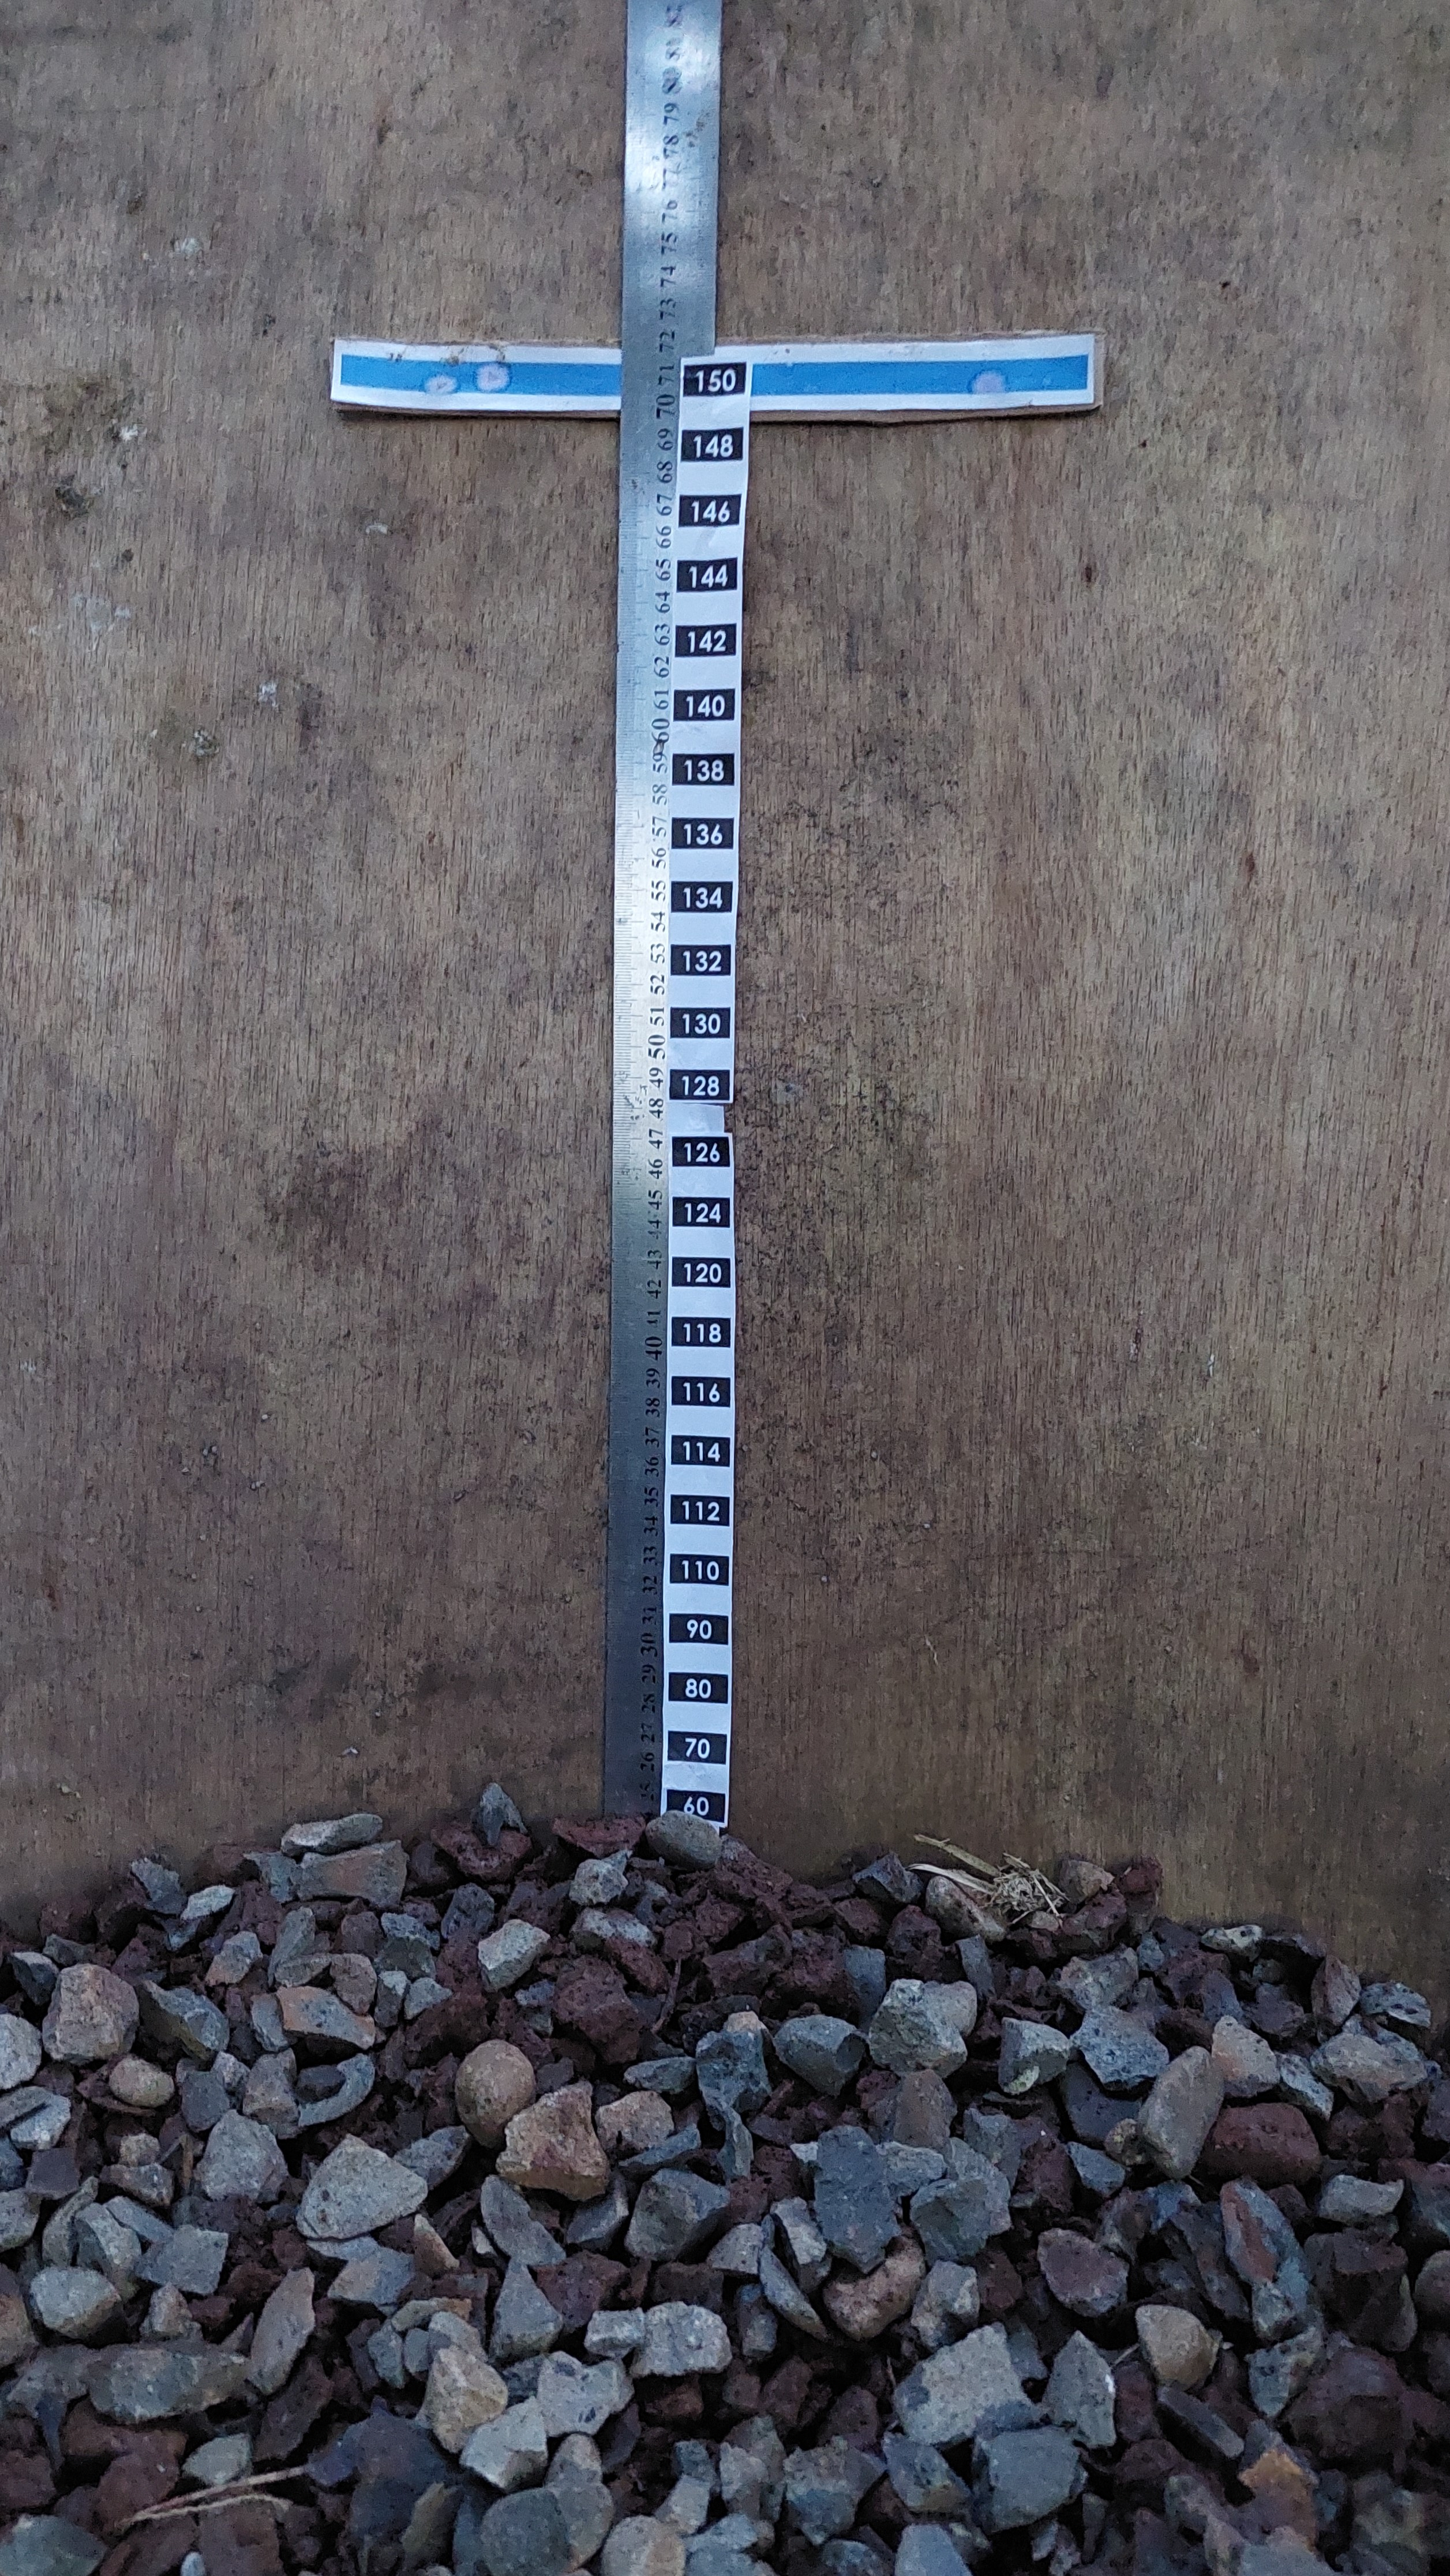kotak_2x1: (670, 748, 737, 789), (670, 812, 736, 853), (668, 1371, 734, 1412), (668, 1003, 732, 1044), (668, 1430, 732, 1470), (665, 1727, 729, 1767), (679, 425, 744, 464), (674, 556, 739, 594), (667, 1491, 732, 1530), (668, 939, 732, 978), (668, 1132, 732, 1171), (674, 621, 739, 658), (672, 686, 737, 724), (668, 878, 734, 915), (670, 1253, 736, 1290), (668, 1313, 734, 1350), (667, 1550, 732, 1587), (667, 1610, 732, 1647), (665, 1668, 730, 1706), (681, 359, 748, 395), (670, 1194, 734, 1231), (677, 492, 743, 527), (667, 1067, 732, 1102)
mal_biru_150: (334, 345, 1093, 402)
